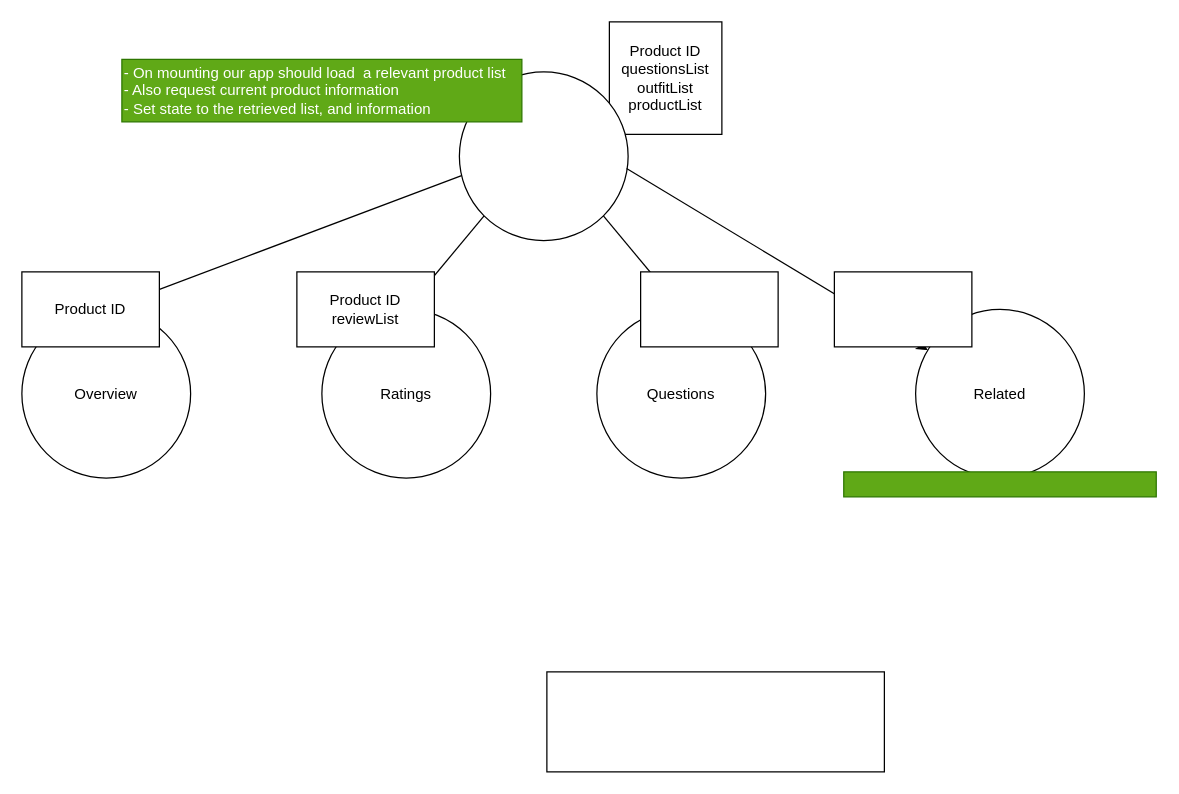
This 1179x794 diagram has some shape labels left out. Each missing label, with the centre of its shape:
"App / Details Page" belongs at (x=543, y=156).
"Product_ID questionsList" belongs at (x=708, y=309).
"productList outfitList" belongs at (x=902, y=309).
"Will be able to change the current product_id" belongs at (x=999, y=484).
